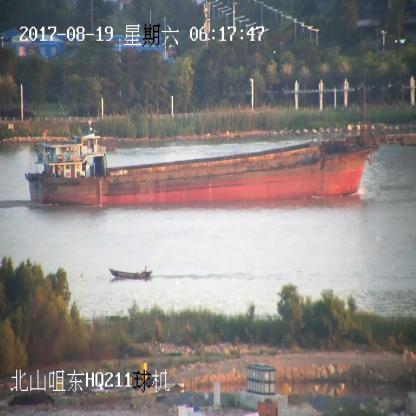Fishing Boat: (108, 265, 152, 280)
